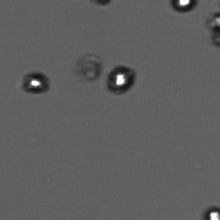Dead Cell: (76, 52, 103, 81)
Living Cell: (107, 63, 137, 95), (21, 70, 49, 94), (169, 1, 199, 14)
